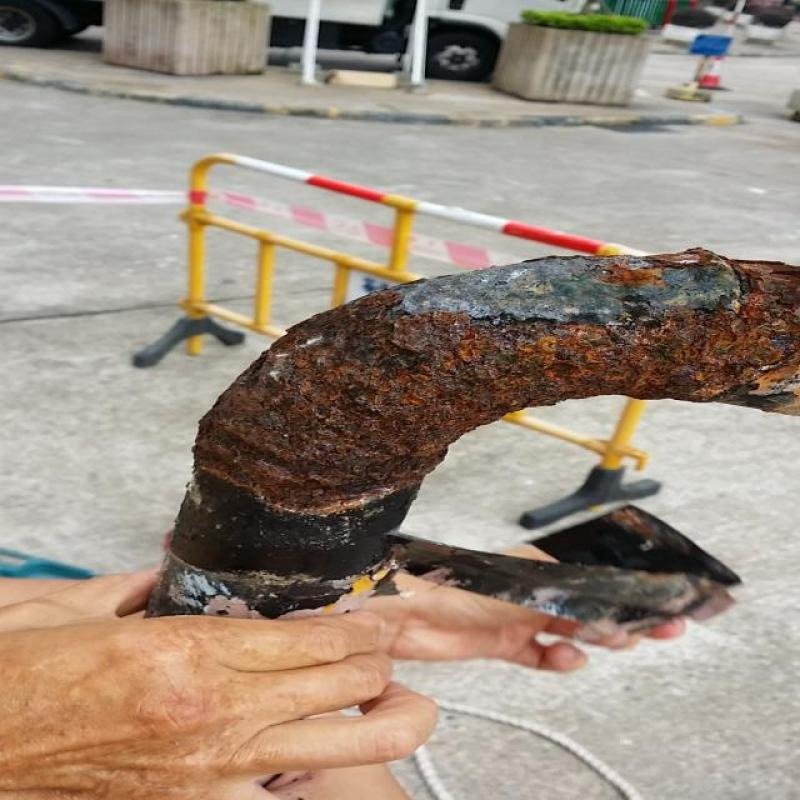corrosion: (215, 290, 760, 405)
